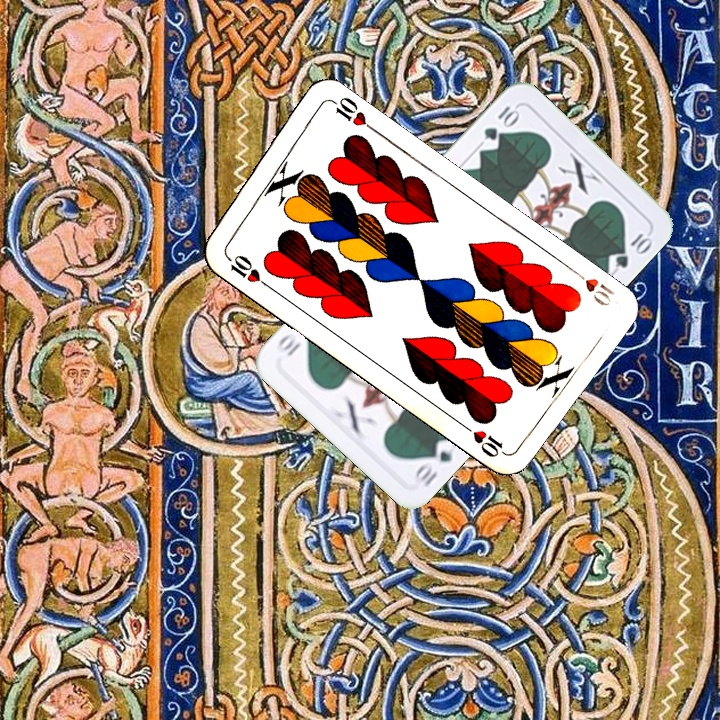G10: (410, 434, 459, 490), (479, 101, 522, 143)
H10: (566, 264, 617, 309), (221, 249, 271, 290)
